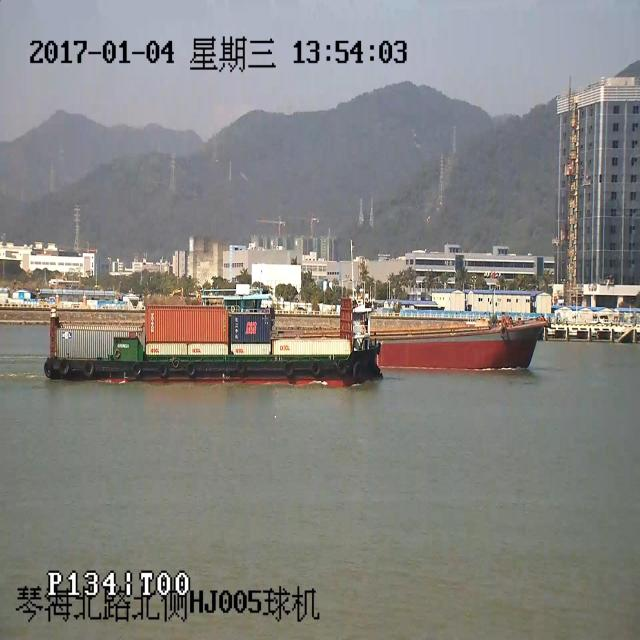cargoship: (46, 279, 376, 398), (380, 298, 540, 382)
